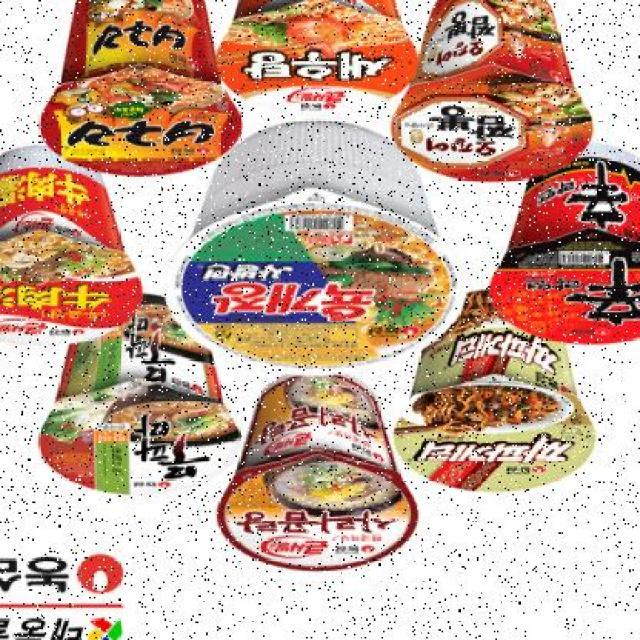Miscellaneous: (166, 120, 460, 377), (36, 292, 242, 497), (392, 288, 596, 494), (216, 376, 412, 572), (398, 0, 598, 188), (38, 0, 242, 174), (498, 149, 640, 349), (0, 149, 142, 342), (222, 0, 416, 120)
